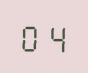four: (43, 19, 66, 53)
zero: (19, 19, 42, 52)
